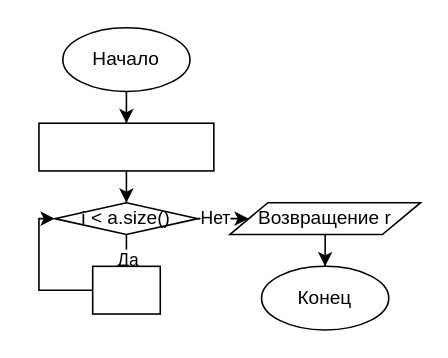
The diagram is 448 pixels wide and 358 high, and some of its shapes have lost their labels. Here are the shapes that lost their labels. From the top down, the centre of each, then its label:
At (125,146): "Вещественное r Целое i = 0".
At (125,289): "r += a[i] i++".
